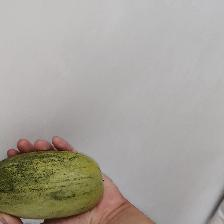gua: (8, 156, 97, 211)
